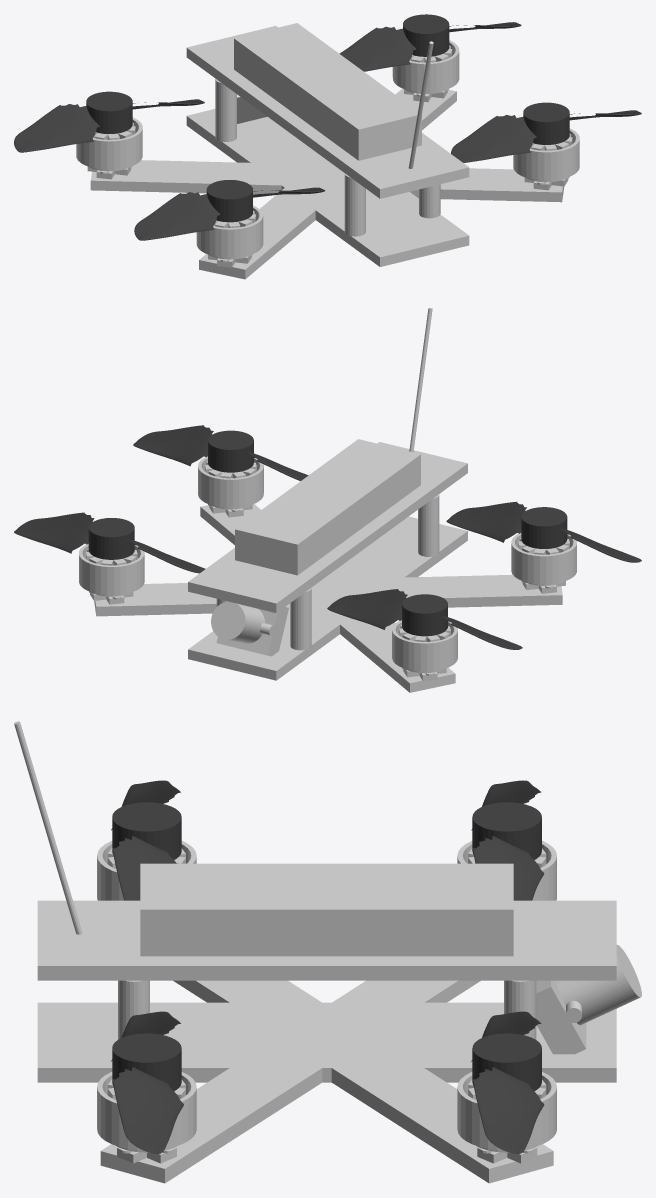
The model's file is hq-51mm-micro.glb.
3 views of the same model, one above another, from view 1: azimuth 30°, elevation 25°; view 2: azimuth 150°, elevation 25°; view 3: azimuth 270°, elevation 25° (orthographic). The views are drawn at different scales.
Parts seen in each view (by area): view 1: battery, frame_bottom, frame_top, arm3, arm4, prop4, prop3, prop2, prop1, arm2, motor4, motor2 (+8 smaller); view 2: battery, frame_bottom, frame_top, prop4, prop3, prop1, prop2, arm4, arm3, arm1, camera, motor1 (+7 smaller); view 3: battery, frame_top, frame_bottom, arm1, arm2, prop1, prop2, prop3, prop4, camera, motor2, motor1 (+7 smaller).
Part boxes in pixels (x1,y1,x2,y2): battery: (234, 23, 421, 160); frame_bottom: (186, 109, 469, 266); frame_top: (186, 26, 469, 198); arm3: (90, 160, 343, 194); arm4: (199, 164, 344, 279); prop4: (134, 180, 325, 240); prop3: (14, 91, 204, 152); prop2: (451, 102, 641, 162); prop1: (339, 14, 521, 71); arm2: (310, 164, 564, 202); motor4: (196, 205, 263, 267); motor2: (513, 128, 579, 190); battery: (235, 439, 420, 575); frame_bottom: (188, 516, 467, 680); frame_top: (188, 442, 467, 613); prop4: (446, 501, 641, 562); prop3: (327, 589, 522, 649); prop1: (14, 512, 205, 573); prop2: (133, 425, 308, 480); arm4: (387, 574, 562, 607); arm3: (311, 580, 455, 692); arm1: (94, 579, 345, 616); camera: (211, 601, 288, 656); motor1: (79, 544, 144, 604); battery: (140, 863, 513, 956); frame_top: (37, 900, 616, 980); frame_bottom: (37, 1002, 616, 1082); arm1: (282, 1017, 553, 1183); arm2: (100, 1017, 347, 1183); prop1: (471, 1011, 544, 1153); prop2: (111, 1011, 183, 1153); prop3: (471, 780, 544, 900); prop4: (111, 780, 181, 900); camera: (536, 944, 641, 1054); motor2: (97, 1072, 196, 1163); motor1: (457, 1072, 556, 1163).
Size of the model in its own units: 136 by 56.7 by 97.61.
1 material, 1 textured.
